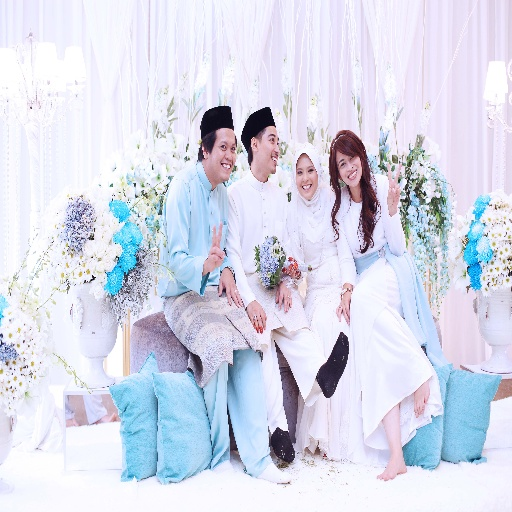hand: (217, 267, 243, 307), (206, 219, 225, 270), (385, 159, 401, 215), (246, 298, 267, 331), (334, 289, 350, 327), (274, 280, 292, 311), (280, 253, 301, 279)
